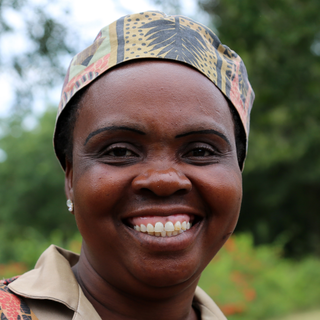eye: (94, 141, 143, 165), (180, 140, 224, 164)
